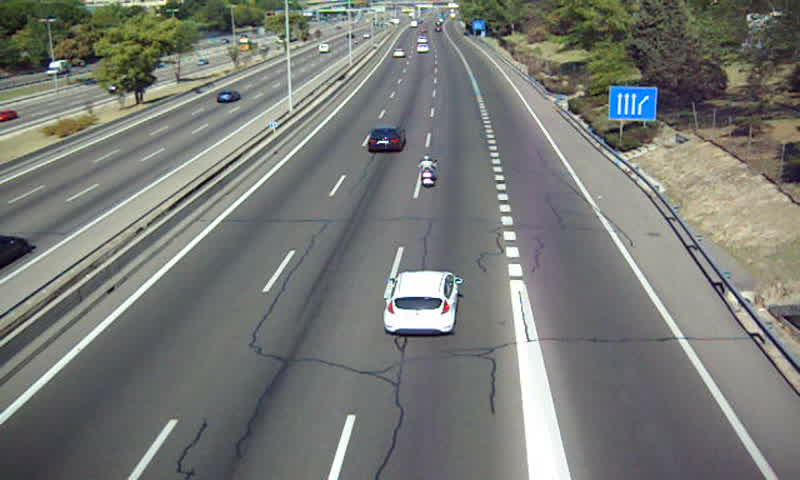car: (385, 271, 459, 337), (368, 125, 406, 152)
motorcycle: (416, 154, 438, 189)
